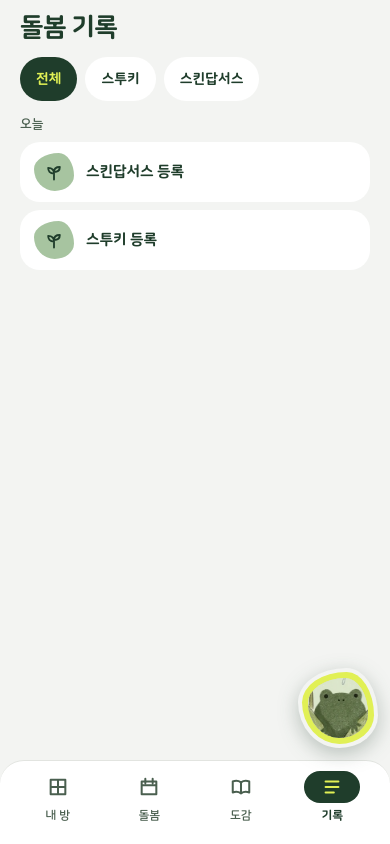
Test: frog chat › reads a typed symptom and plant name, and says so when it cannot read a message
Click the button named "개구리에게 도움 요청". click: (338, 708)
box: [302, 672, 374, 744]
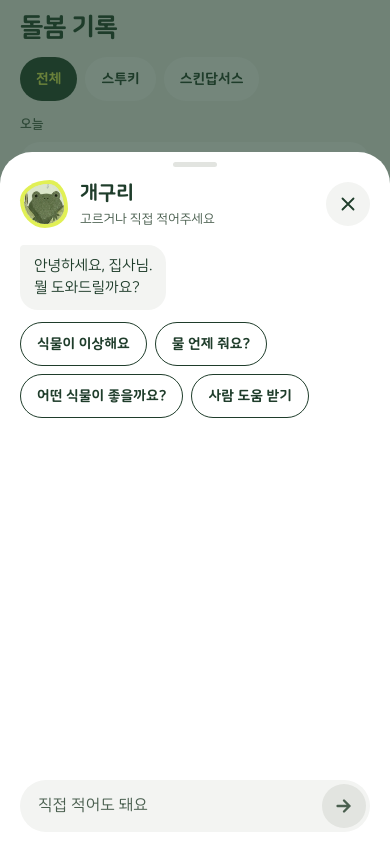
Type "오늘 날씨 좋네" into the field named "직접 적기". click: (175, 806)
box: [36, 784, 314, 828]
Then press Enter
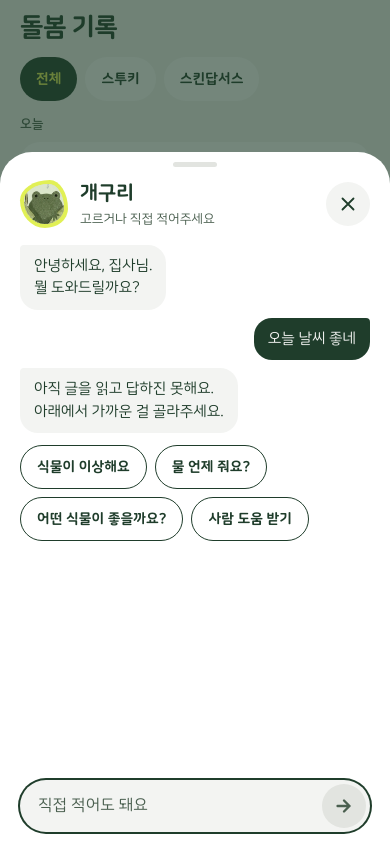
Now the text "아직 글을 읽고 답하진 못해요. 아래에서 가까운 걸 골라주세요." is shown, box [20, 368, 238, 433]
Type "스킨답서스 잎이 노랗게 됐어" into the field named "직접 적기". click: (175, 806)
box: [36, 784, 314, 828]
Then press Enter
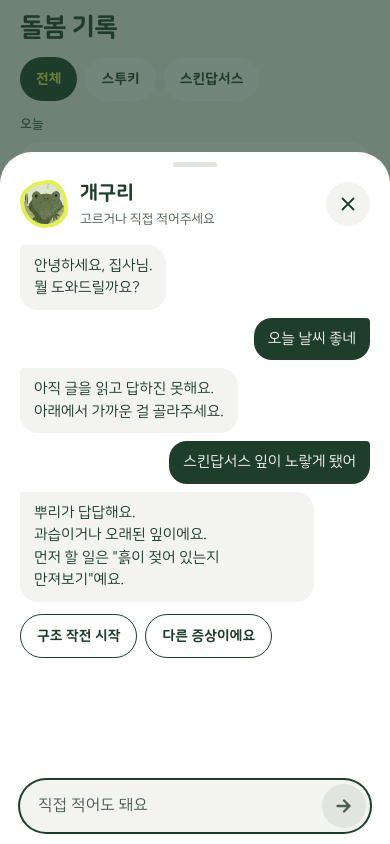
Now the text "뿌리가 답답해요. 과습이거나 오래된 잎이에요. 먼저 할 일은 \"흙이 젖어 있는지 만져보기\"예요." is shown, box [20, 492, 314, 602]
Now the button "구조 작전 시작" is shown, box [20, 614, 138, 658]
